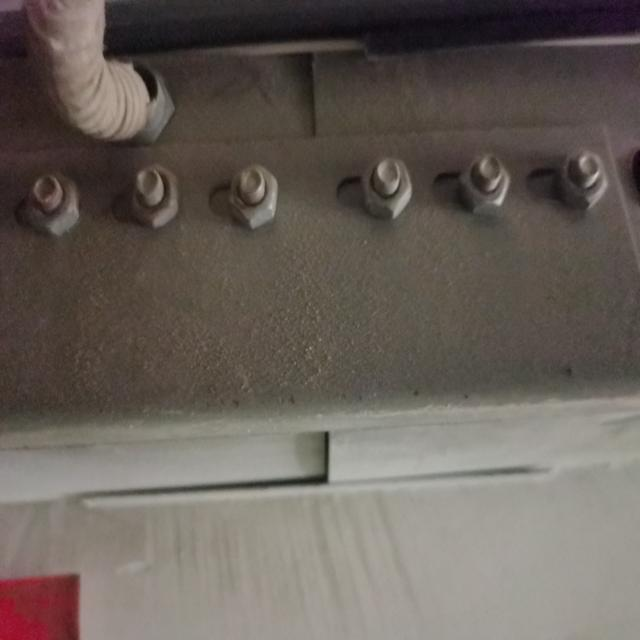bolt nut: (20, 163, 83, 242), (550, 143, 612, 215), (454, 149, 514, 218), (128, 161, 184, 234), (358, 151, 414, 222), (226, 162, 281, 233)
